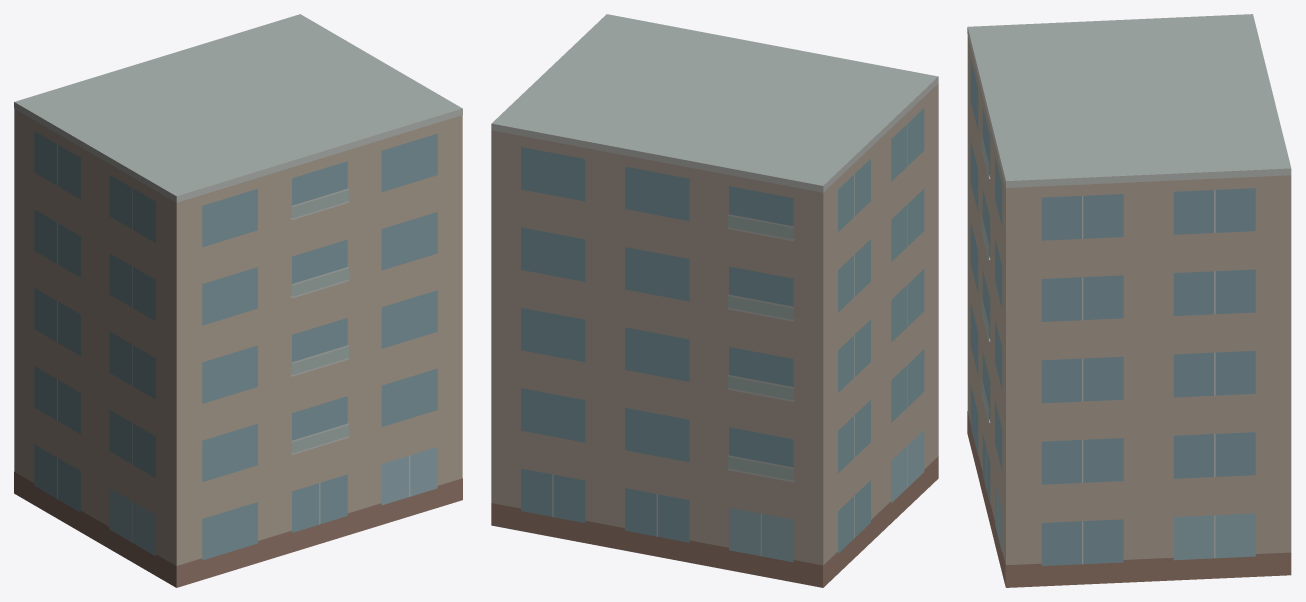
Rendered from survey-upis-32669284.glb.
3 renders of one model, left to right at view 1: azimuth 30°, elevation 25°; view 2: azimuth 150°, elevation 25°; view 3: azimuth 270°, elevation 25°, orthographic. The views are drawn at different scales.
Parts seen in each view (by area): view 1: survey-upis-32669284.tmp; view 2: survey-upis-32669284.tmp; view 3: survey-upis-32669284.tmp.
Part boxes in pixels (x1,y1,x2,y2): survey-upis-32669284.tmp: [14, 14, 462, 587]; survey-upis-32669284.tmp: [491, 14, 938, 587]; survey-upis-32669284.tmp: [967, 14, 1291, 587].
Size of the model in its own units: 12.88 by 14.6 by 10.55.
